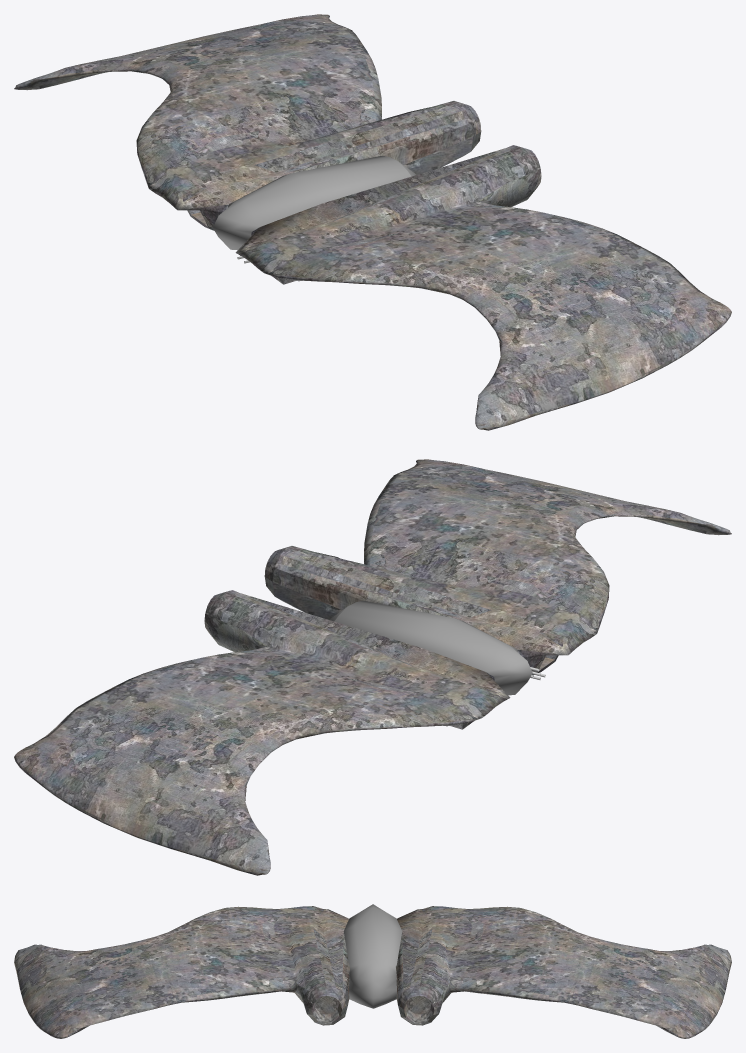
The model's file is ship.obj.
3 views of the same model, one above another, from view 1: azimuth 30°, elevation 25°; view 2: azimuth 150°, elevation 25°; view 3: azimuth 270°, elevation 25° (orthographic). The views are drawn at different scales.
Parts seen in each view (by area): view 1: Cube, Cube.001; view 2: Cube, Cube.001; view 3: Cube, Cube.001.
Boxes of the visible parts, x1,y1,x2,y2 form: Cube: (14,14,731,430); Cube.001: (213,155,415,250); Cube: (14,459,731,875); Cube.001: (329,600,532,695); Cube: (14,906,731,1038); Cube.001: (343,904,402,1008).
Size of the model in its own units: 5.24 by 1.22 by 13.15.
